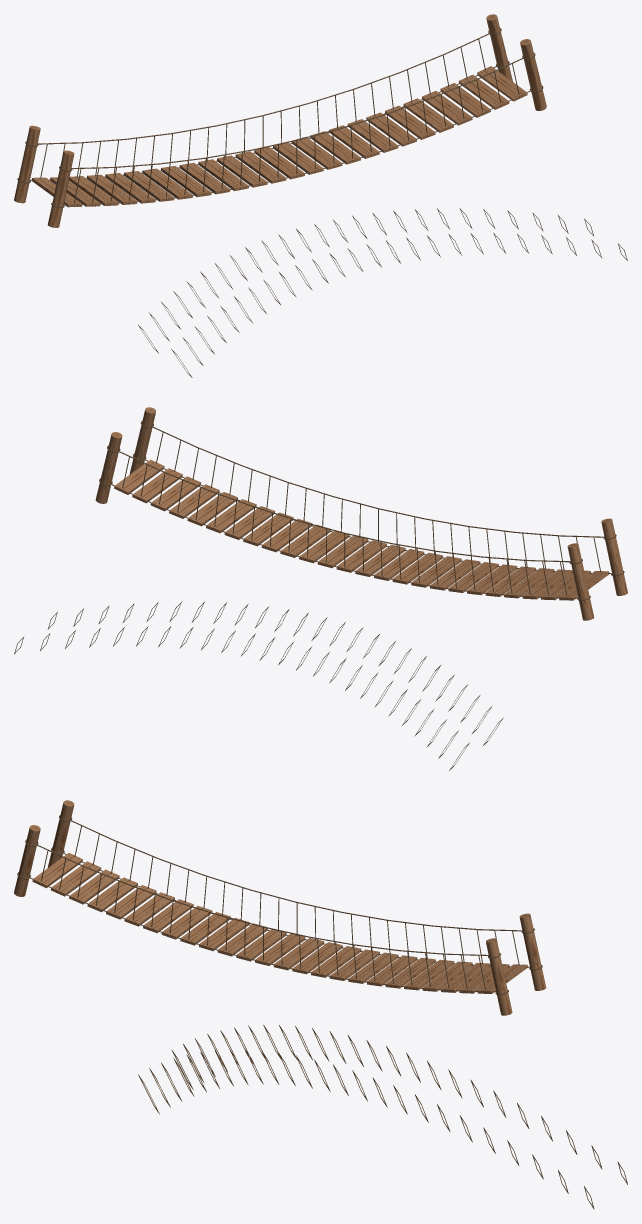
File: RopeBrige.FBX
3 renders of one model, top to bottom at view 1: azimuth 30°, elevation 25°; view 2: azimuth 150°, elevation 25°; view 3: azimuth 330°, elevation 25°, orthographic.
Parts seen in each view (by area): view 1: Cylinder051, Cylinder052, Cylinder053, Cylinder056, Cylinder055, Cylinder054, Box025, Box024, Box023, Box022, Box021, Box020 (+17 smaller); view 2: Cylinder051, Cylinder052, Cylinder054, Cylinder056, Cylinder055, Box025, Cylinder053, Box024, Box023, Box022, Box021, Box020 (+17 smaller); view 3: Cylinder054, Cylinder053, Cylinder052, Cylinder056, Cylinder055, Cylinder051, Box002, Box001, Box003, Box004, Box005, Box006 (+17 smaller).
Part boxes in pixels (bbox=[...]): Cylinder051: bbox=[14, 125, 40, 203]; Cylinder052: bbox=[47, 150, 74, 227]; Cylinder053: bbox=[520, 39, 546, 110]; Cylinder056: bbox=[37, 33, 489, 144]; Cylinder055: bbox=[71, 58, 522, 169]; Cylinder054: bbox=[486, 14, 512, 81]; Box025: bbox=[477, 66, 527, 101]; Box024: bbox=[458, 74, 509, 109]; Box023: bbox=[440, 83, 490, 117]; Box022: bbox=[422, 91, 472, 125]; Box021: bbox=[403, 98, 453, 132]; Box020: bbox=[385, 105, 435, 139]; Cylinder051: bbox=[567, 543, 594, 620]; Cylinder052: bbox=[601, 518, 627, 595]; Cylinder054: bbox=[95, 432, 122, 503]; Cylinder056: bbox=[119, 451, 569, 562]; Cylinder055: bbox=[152, 426, 603, 537]; Box025: bbox=[114, 459, 164, 494]; Cylinder053: bbox=[129, 407, 155, 474]; Box024: bbox=[132, 468, 182, 503]; Box023: bbox=[150, 476, 201, 511]; Box022: bbox=[169, 484, 219, 518]; Box021: bbox=[187, 492, 237, 526]; Box020: bbox=[206, 499, 256, 533]; Cylinder054: bbox=[519, 913, 546, 990]; Cylinder053: bbox=[486, 938, 512, 1015]; Cylinder052: bbox=[14, 825, 40, 896]; Cylinder056: bbox=[71, 820, 522, 931]; Cylinder055: bbox=[37, 845, 488, 955]; Cylinder051: bbox=[47, 800, 74, 867]; Box002: bbox=[50, 861, 101, 896]; Box001: bbox=[32, 853, 82, 888]; Box003: bbox=[69, 869, 119, 904]; Box004: bbox=[87, 877, 137, 912]; Box005: bbox=[106, 885, 156, 919]; Box006: bbox=[124, 892, 174, 926].
Size of the model in its own units: 1163 by 494 by 141.
2 materials, 2 textured.
